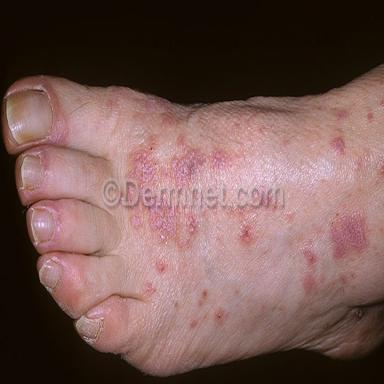lichen: (127, 135, 228, 188), (150, 206, 198, 248), (331, 212, 367, 258), (50, 113, 67, 143), (302, 273, 316, 294), (330, 138, 345, 154), (304, 248, 317, 266), (131, 214, 143, 229)
